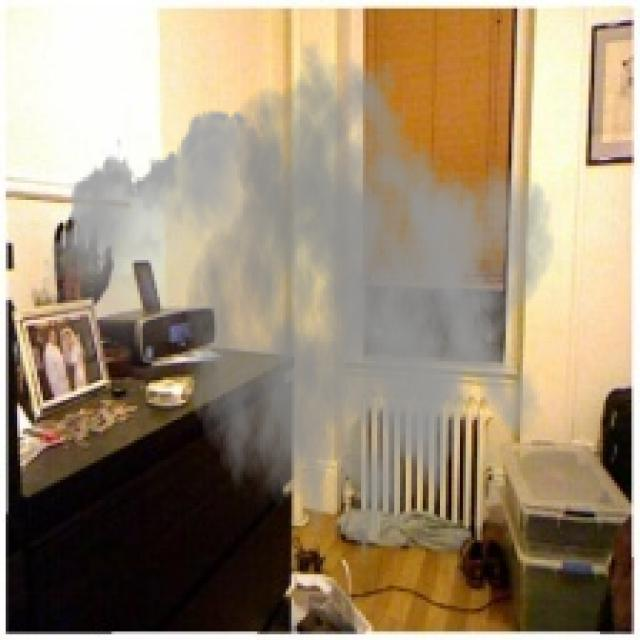Smoke: (42, 40, 558, 589)
